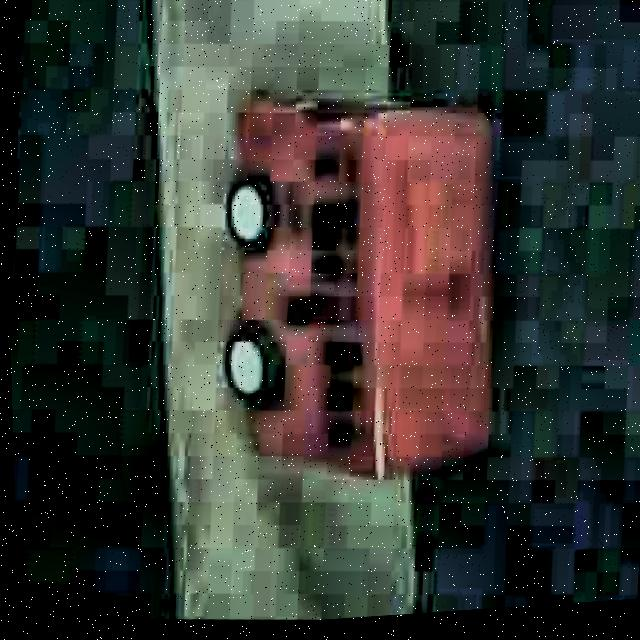bus: (199, 74, 518, 499)
